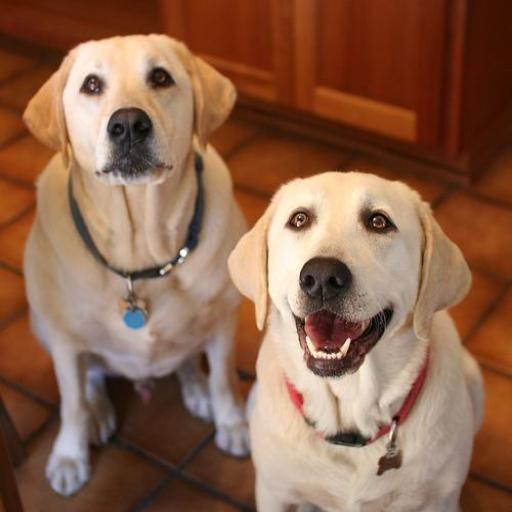dog_face: (229, 174, 472, 369), (23, 33, 239, 181)
